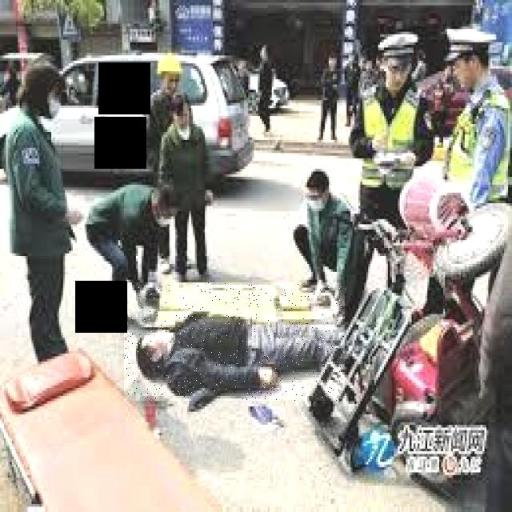Fall: (124, 282, 345, 401)
